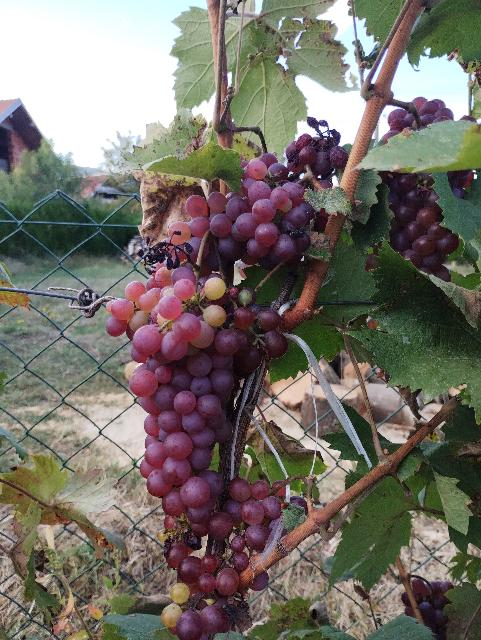grapes: (106, 196, 289, 640), (169, 118, 352, 269), (380, 170, 460, 281), (381, 98, 454, 145), (450, 170, 472, 199)
